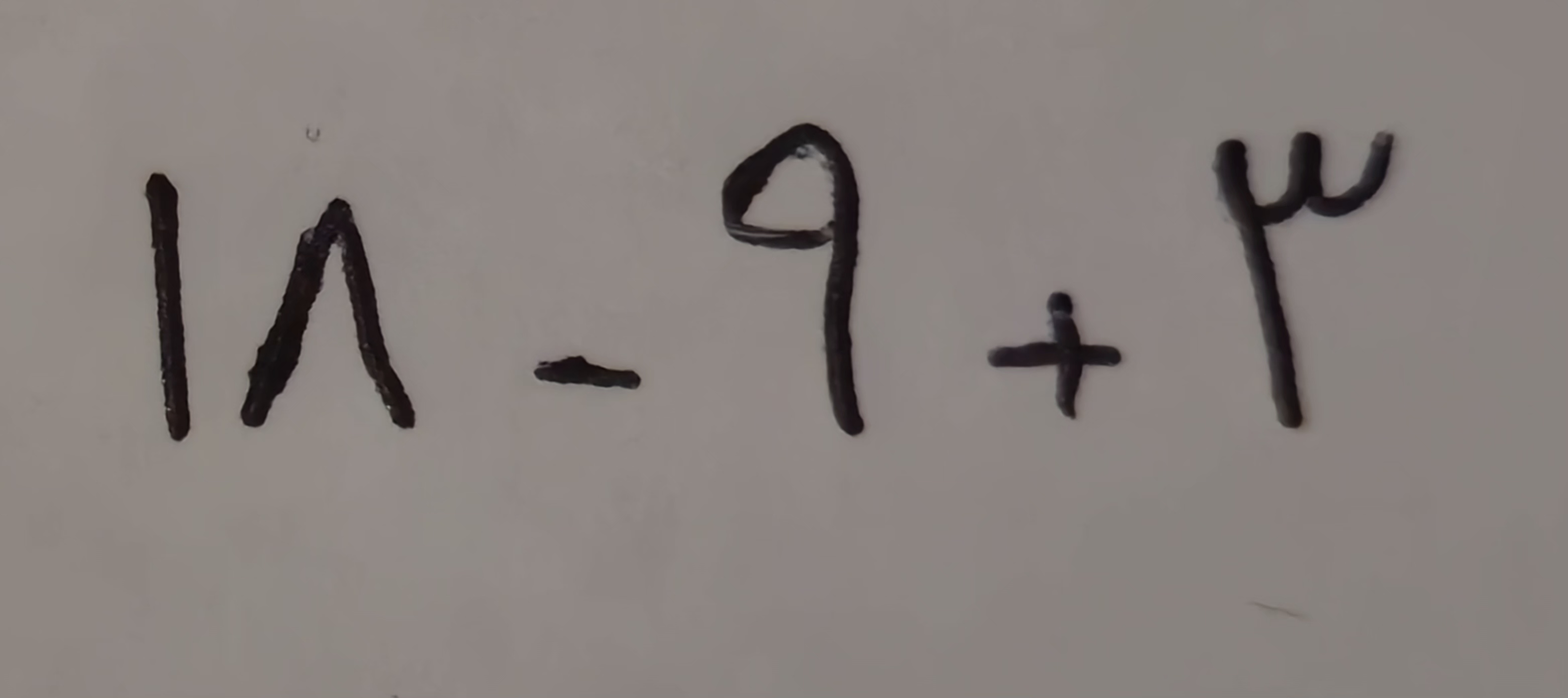character: (142, 167, 417, 442), (1213, 129, 1392, 425), (720, 122, 868, 439), (238, 196, 414, 430), (987, 291, 1124, 422), (533, 353, 643, 392)
